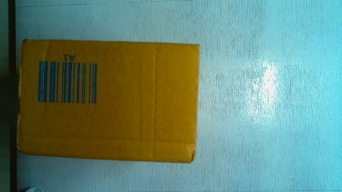a: (18, 37, 200, 165)
